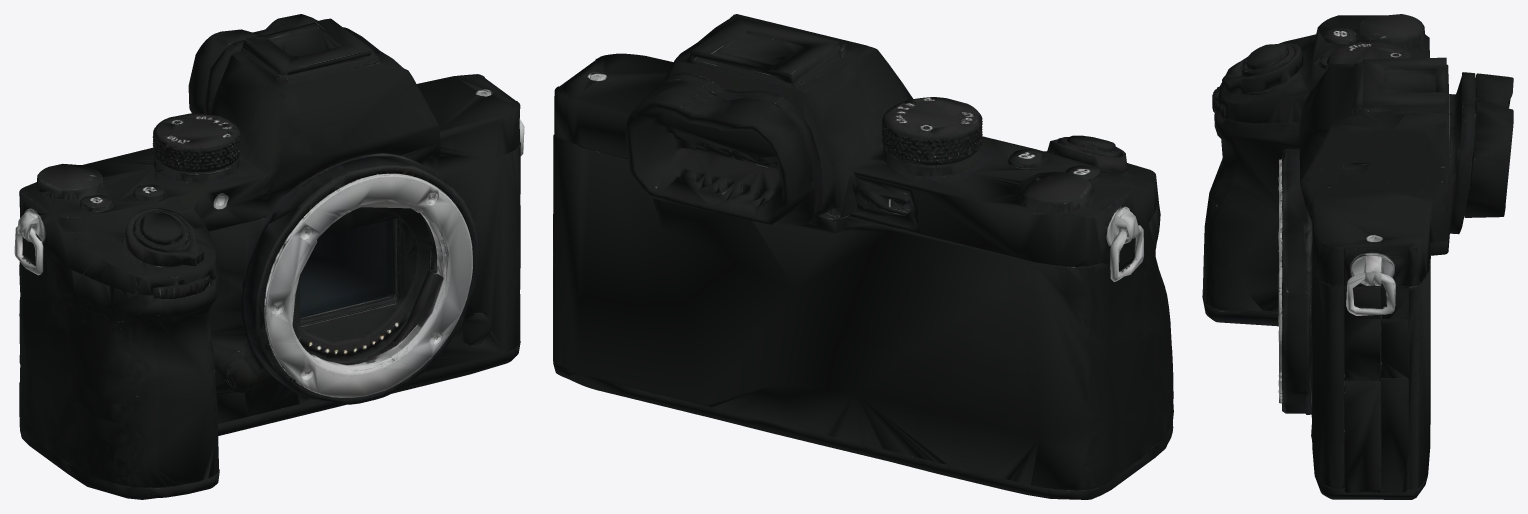
Rendered from camera.glb.
The picture shows the model from 3 angles, left to right: view 1: azimuth 30°, elevation 25°; view 2: azimuth 150°, elevation 25°; view 3: azimuth 270°, elevation 25°; orthographic projection. The views are drawn at different scales.
Bounding box in the file's own units: 1.9 × 1.2 × 1.01.
Materials: 1 (1 with a texture image).
